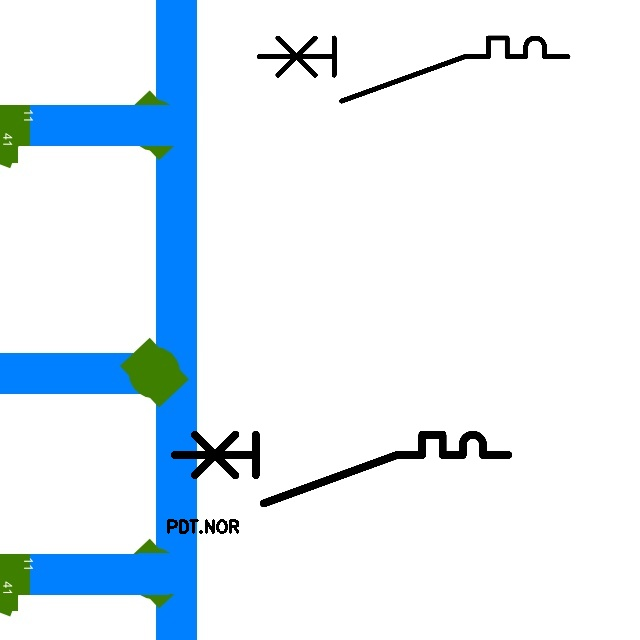interruptor_termomagnetico: (166, 426, 517, 512), (251, 30, 576, 109)
